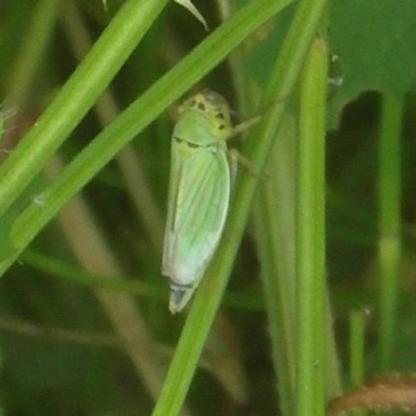Green-Leafhopper: (151, 84, 272, 317)
